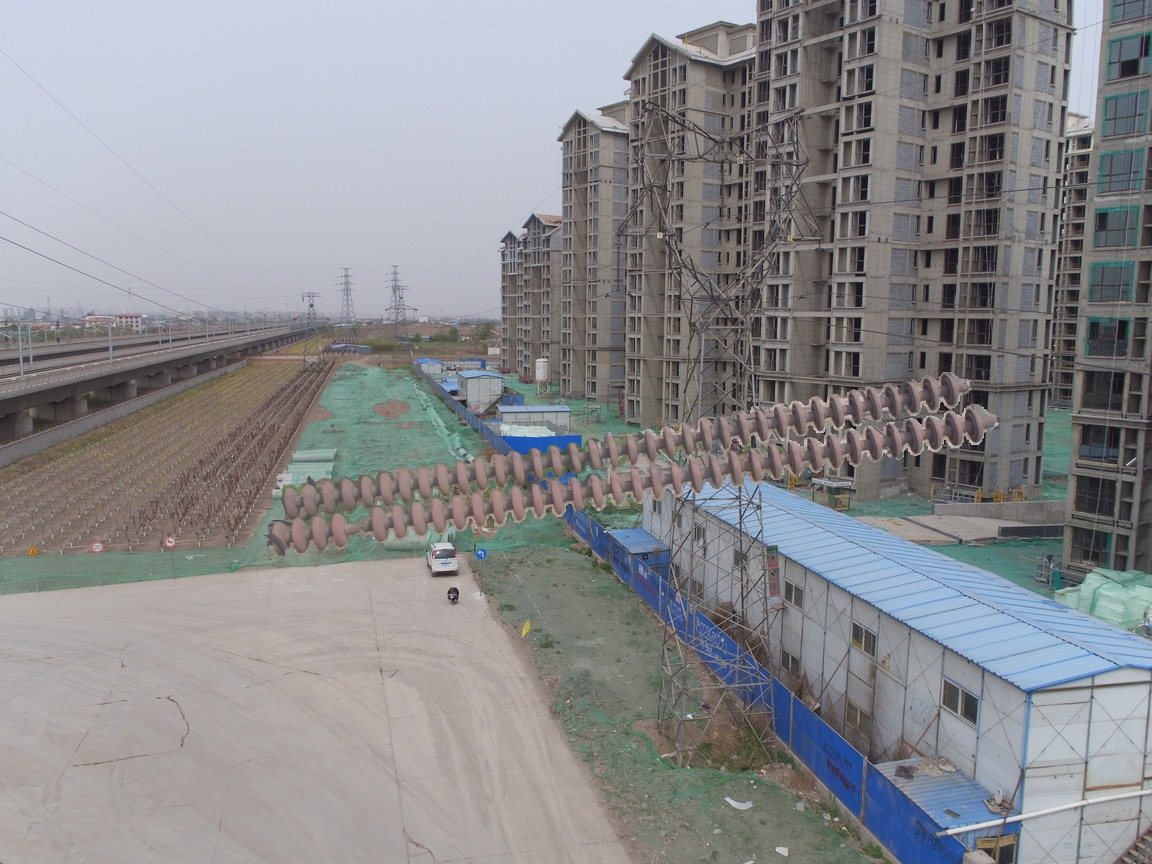defect: (323, 504, 394, 552)
